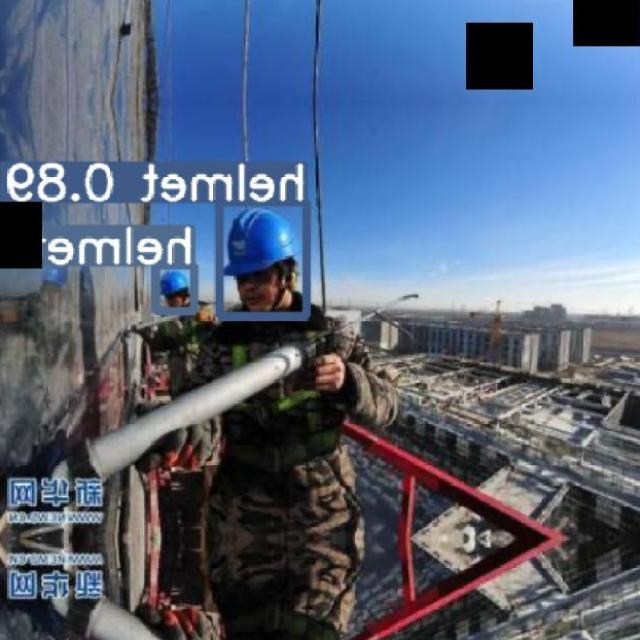helmet: (223, 207, 300, 276), (160, 270, 190, 295)
